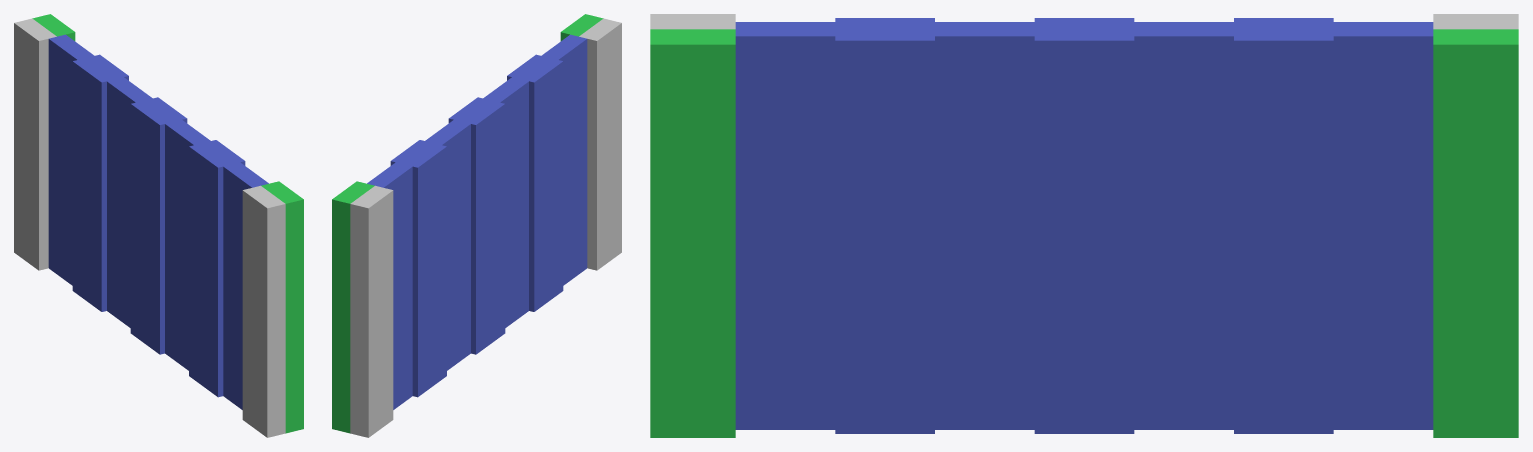
Rendered from garage_door.fbx.
3 renders of one model, left to right at view 1: azimuth 30°, elevation 25°; view 2: azimuth 150°, elevation 25°; view 3: azimuth 270°, elevation 25°, orthographic. The views are drawn at different scales.
Visible parts, largest first — view 1: Cube; view 2: Cube; view 3: Cube.
Part boxes in pixels (left/top/right/bottom): Cube: left=14, top=14, right=303, bottom=437; Cube: left=332, top=14, right=621, bottom=437; Cube: left=650, top=14, right=1518, bottom=437.
Size of the model in its own units: 50 by 300 by 600.
